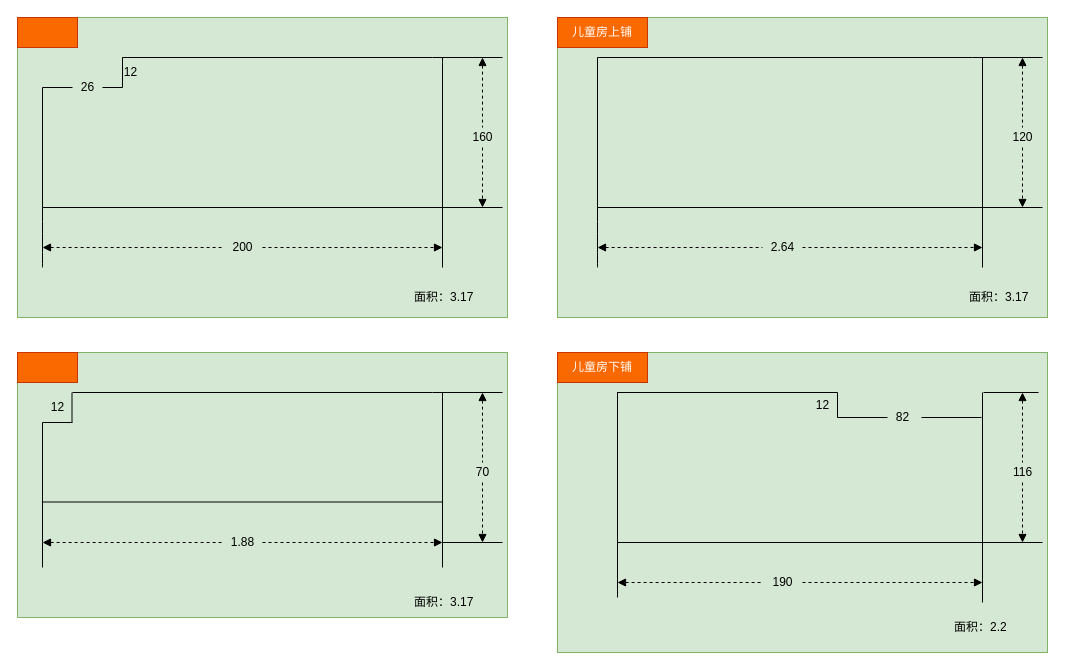
This 1065x670 diagram has some shape labels left out. The shapes that lost their labels are listed below. From the top down, each one's box as (x1, y1, x2, y2) in pixels, then its label:
(16, 16, 78, 48): 次卧
(16, 352, 78, 382): 主卧飘窗
